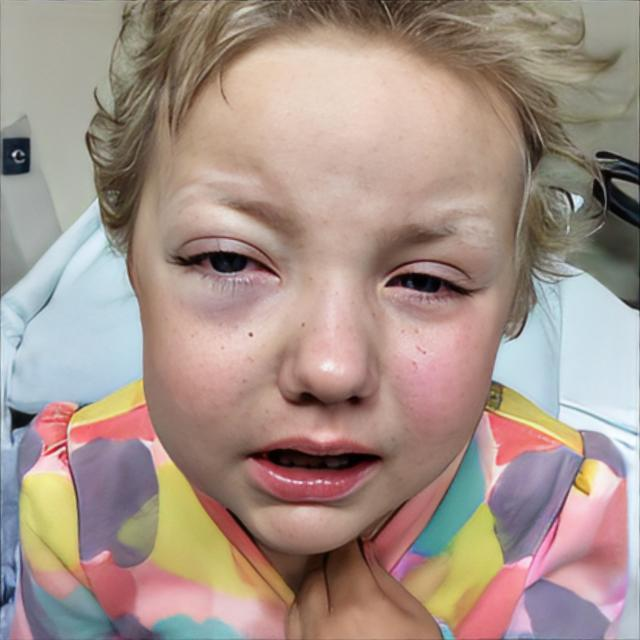sad: (125, 18, 524, 558)
